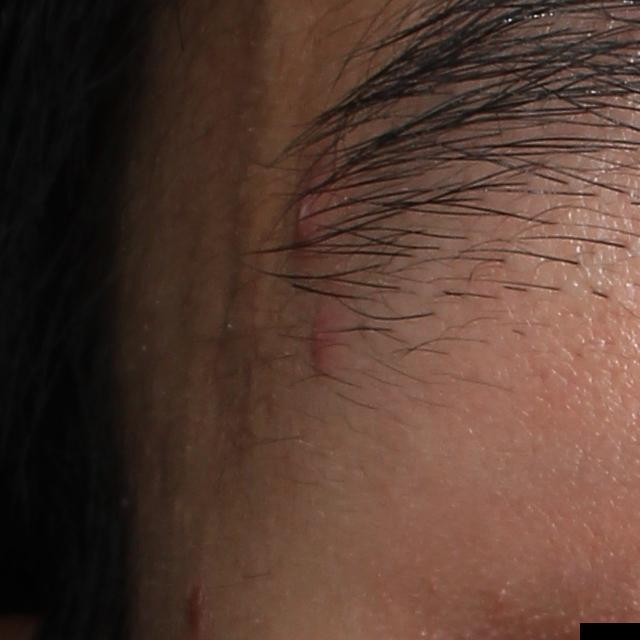papule: (300, 309, 359, 394), (295, 180, 346, 264)
